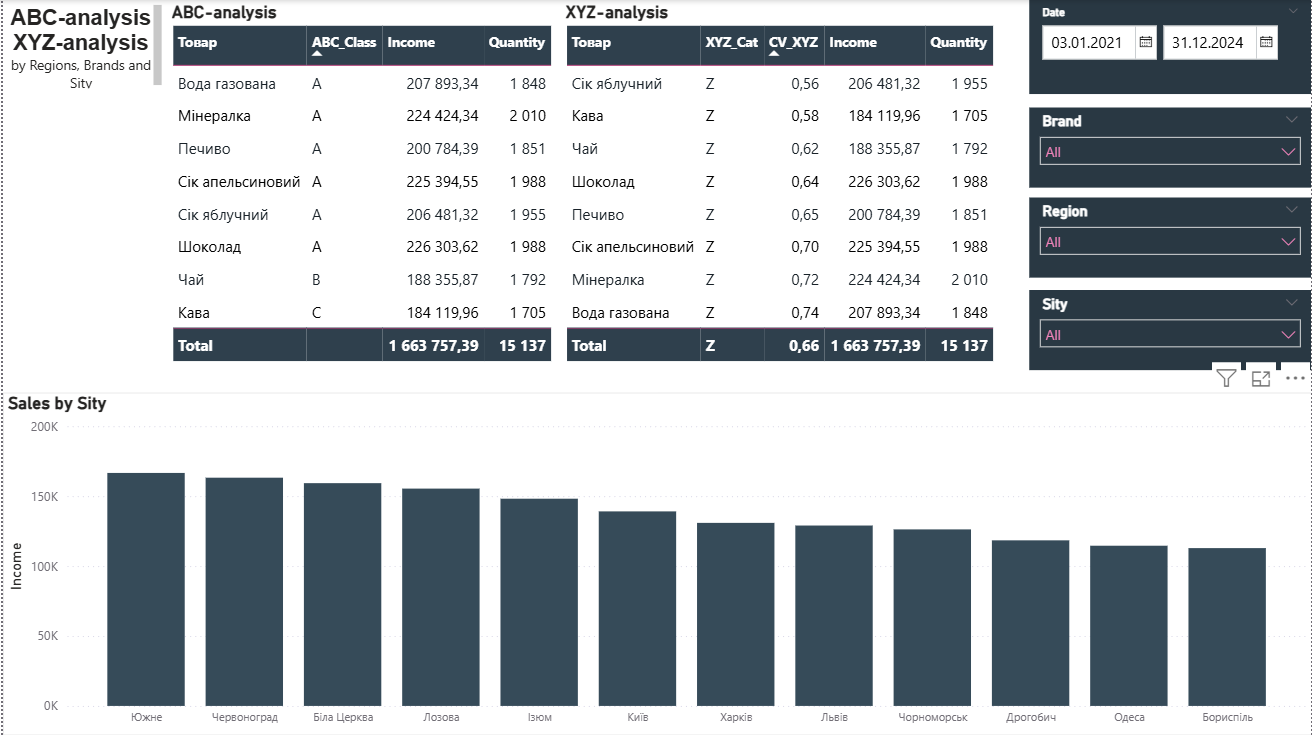

This screenshot's page, from the dashboard's own definition file:
{"tool":"powerbi","page":{"name":"ABC_XYZ","canvas":[1280,720],"ordinal":1},"visuals":[{"type":"slicer","title":"DATE","fields":{"Values":["Calendar.Date"]},"box":[1004.5,0,275.8,91.9],"z":0,"group":"g2"},{"type":"tableEx","title":"ABC-analysis","fields":{"Values":["Product.Товар","ABC-аналіз.ABC_Class","Measure.Income","Sum(Sales.Кількість)"]},"box":[160,1.1,382.7,369.3],"z":0,"group":"g3"},{"type":"slicer","fields":{"Values":["Sales.Місто"]},"box":[1004.9,283.2,275.8,78.2],"z":1000,"group":"g2"},{"type":"textbox","box":[0,0,160.2,91.7],"z":2000},{"type":"slicer","fields":{"Values":["Brand.Бренд"]},"box":[1004.9,104.8,275.8,78.2],"z":2000,"group":"g2"},{"type":"group","id":"g1","title":"Group 1","box":[1004.5,0,275.8,360.9],"z":3000},{"type":"slicer","fields":{"Values":["Sales.Регіон"]},"box":[1004.9,192.6,275.8,78.2],"z":3000,"group":"g2"},{"type":"group","id":"g2","title":"Group 2","box":[1004.5,0,276.2,361.4],"z":3007,"group":"g1"},{"type":"clusteredColumnChart","title":"Sales by Sity","fields":{"Category":["Sales.Місто"],"Y":["Measure.Income"]},"box":[0,384.2,1280.3,334.8],"z":4000},{"type":"tableEx","title":"XYZ-analysis","fields":{"Values":["Sales.Товар","ABC-аналіз.XYZ_Class_Month_Dynamic","ABC-аналіз.CV_XYZ","Measure.Income","Sum(Sales.Кількість)"]},"box":[545.1,1,442.7,373],"z":5000,"group":"g3"},{"type":"group","id":"g3","title":"Group 3","box":[160,1,827.8,373],"z":5001}]}

Visuals, with their boxes in screenshot pixels (x1, y1, x2, y2), scaled from the page's 1280x720 canvas onto the 1312x735 screenshot:
"DATE" slicer: x1=1030 y1=0 x2=1311 y2=94
"ABC-analysis" tableEx: x1=164 y1=1 x2=556 y2=378
slicer - Sales.Місто: x1=1030 y1=289 x2=1311 y2=369
textbox: x1=0 y1=0 x2=164 y2=94
slicer - Brand.Бренд: x1=1030 y1=107 x2=1311 y2=187
"Group 1" group: x1=1030 y1=0 x2=1311 y2=368
slicer - Sales.Регіон: x1=1030 y1=197 x2=1311 y2=276
"Group 2" group: x1=1030 y1=0 x2=1311 y2=369
"Sales by Sity" clusteredColumnChart: x1=0 y1=392 x2=1311 y2=734
"XYZ-analysis" tableEx: x1=559 y1=1 x2=1012 y2=382
"Group 3" group: x1=164 y1=1 x2=1012 y2=382
